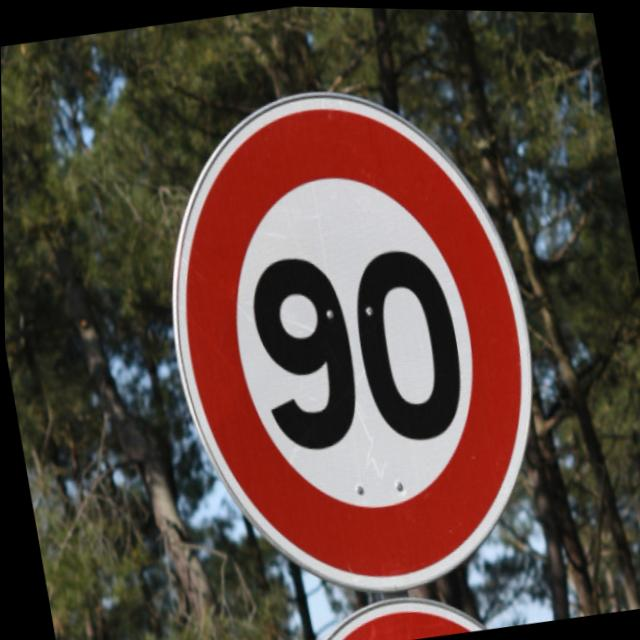Speed Limit -90-: (131, 51, 572, 621)
